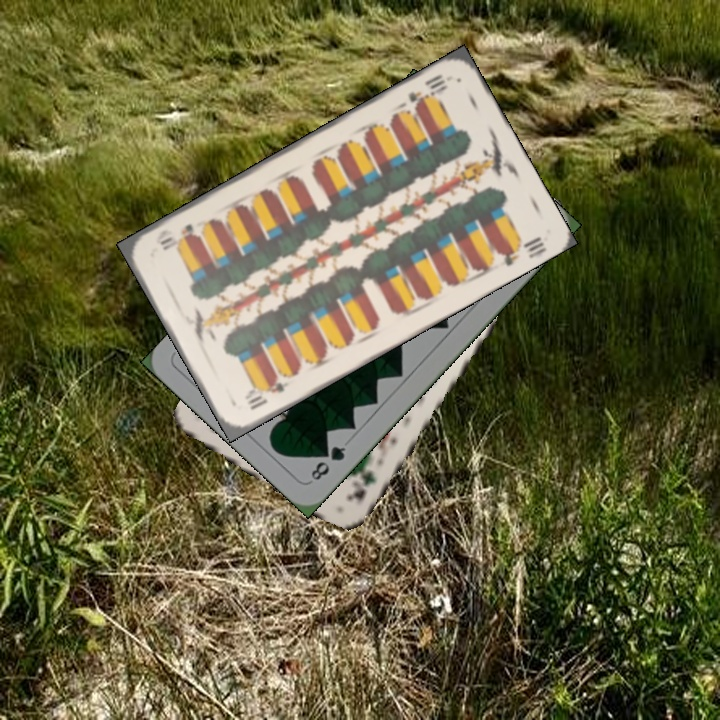E10: (404, 70, 450, 112), (243, 374, 292, 413)
G8: (306, 441, 349, 483)
GK: (344, 465, 379, 506)
